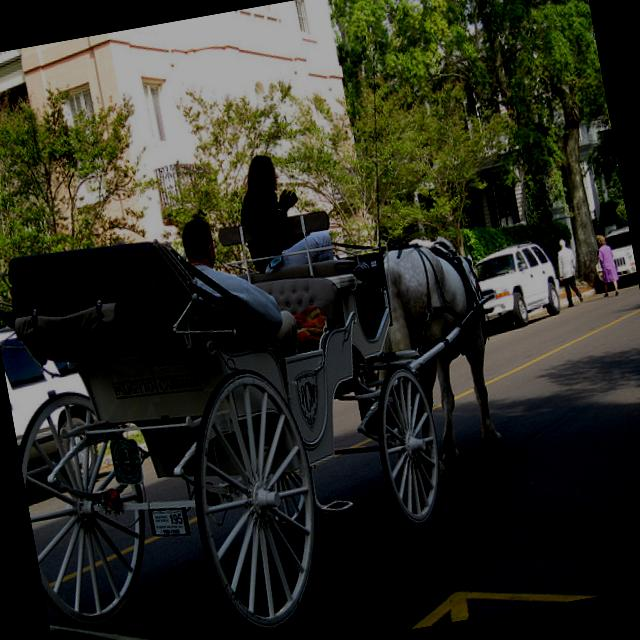Vehicle: (0, 316, 104, 508), (470, 235, 566, 332), (587, 219, 638, 288)
